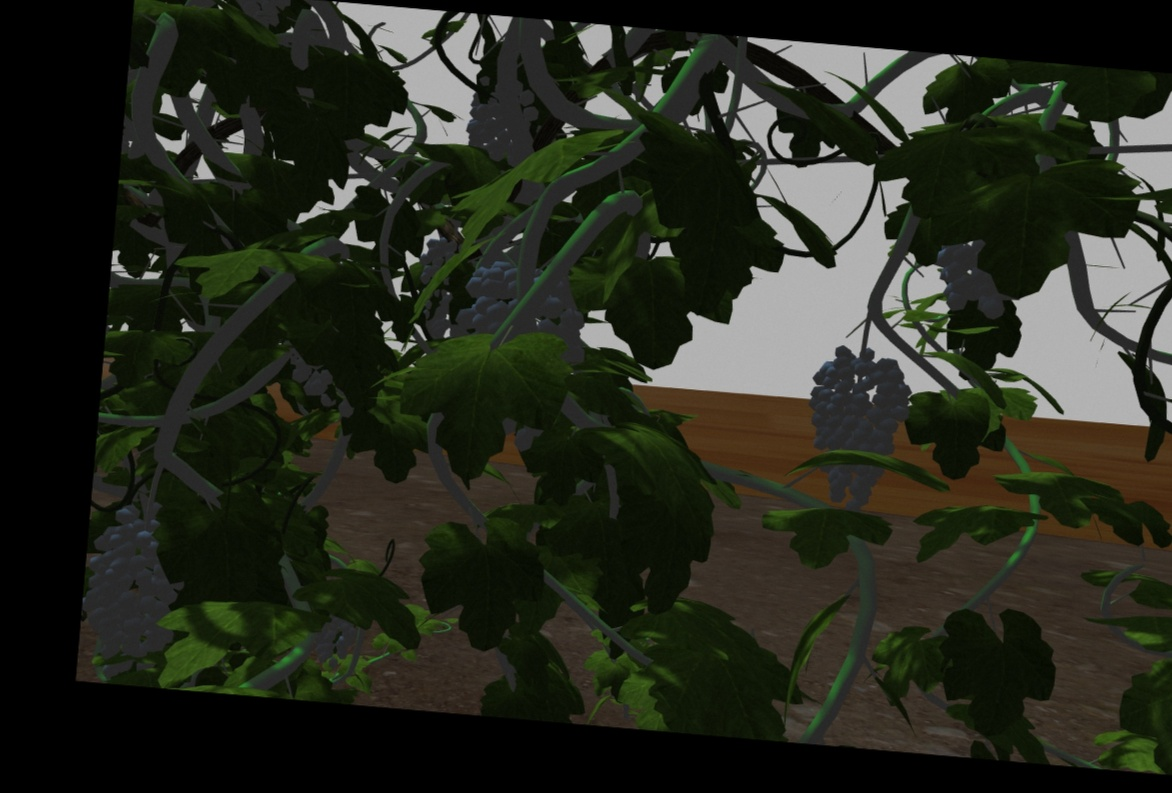grape: (805, 343, 910, 516), (87, 503, 180, 675), (457, 256, 589, 343), (936, 230, 1015, 318), (464, 79, 537, 163)
